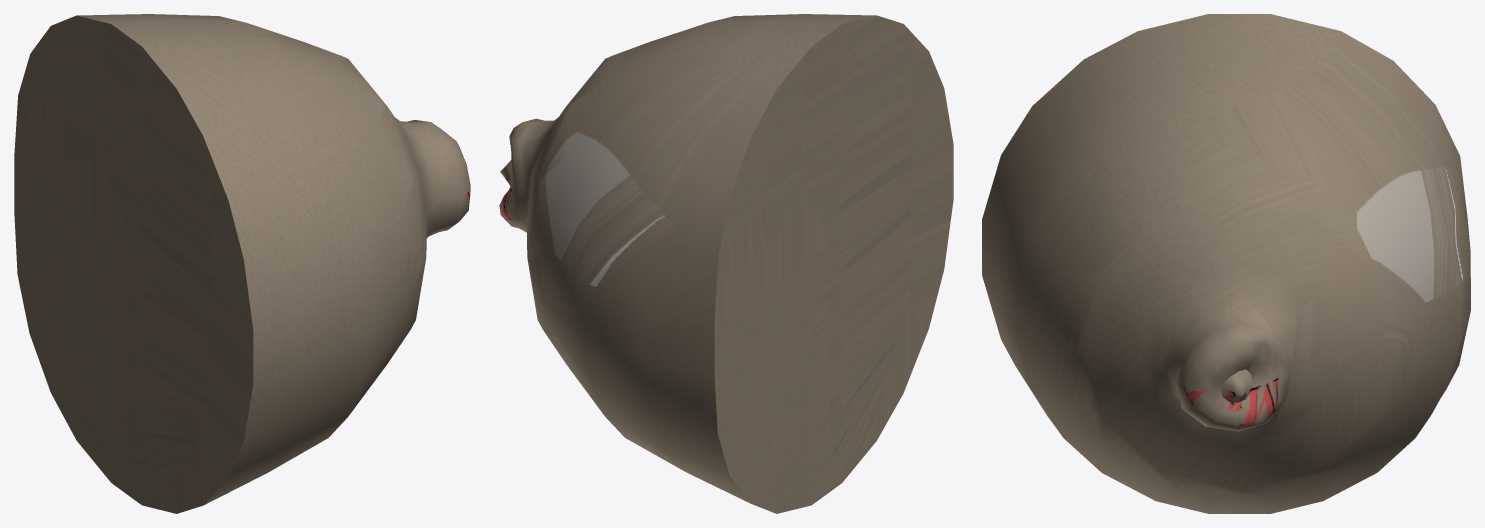
Rendered from LemonHalf2.fbx.
3 renders of one model, left to right at view 1: azimuth 30°, elevation 25°; view 2: azimuth 150°, elevation 25°; view 3: azimuth 270°, elevation 25°, orthographic.
Parts seen in each view (by area): view 1: Object065; view 2: Object065; view 3: Object065.
Boxes of the visible parts, bbox=[...] form: Object065: bbox=[14, 14, 470, 513]; Object065: bbox=[499, 14, 953, 513]; Object065: bbox=[982, 14, 1470, 513].
Bounding box in the file's own units: 3.16 × 4.25 × 4.03.
